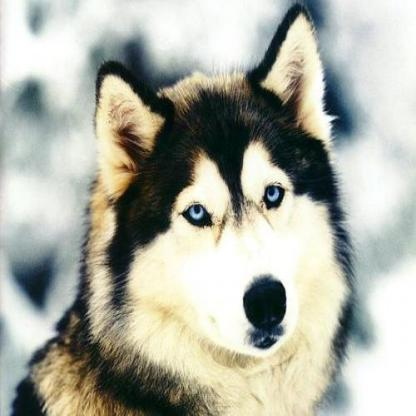Siberian_husky: (0, 0, 359, 413)
